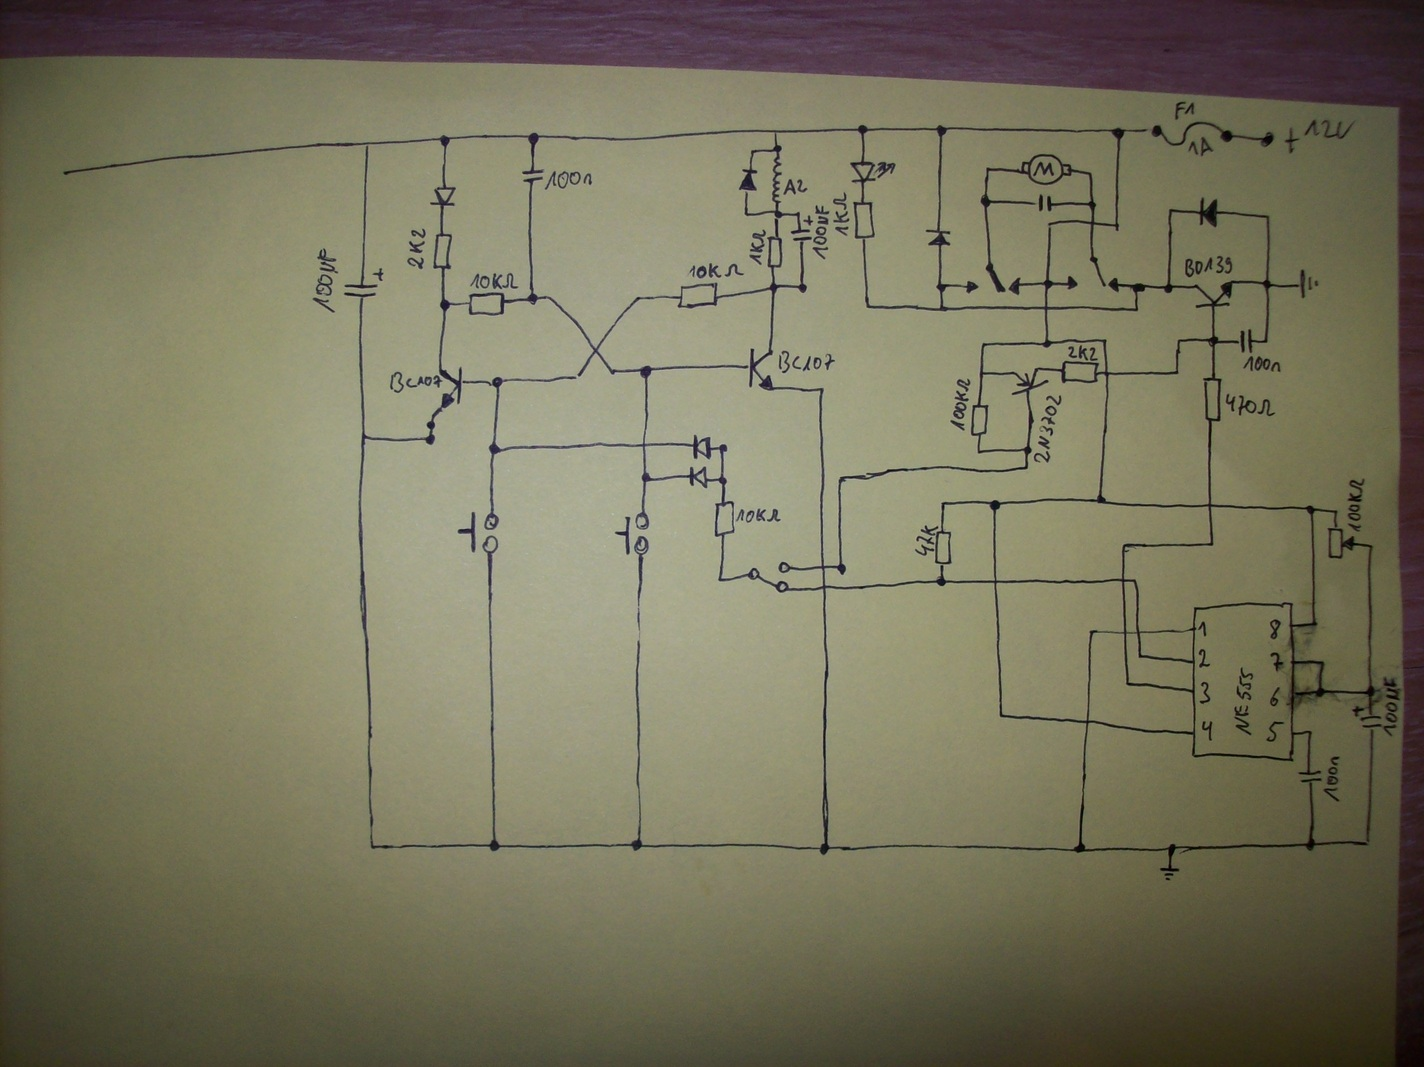capacitor.polarized: (343, 267, 387, 299), (1351, 704, 1383, 730), (791, 216, 813, 242)
capacitor.unpolarized: (1236, 327, 1255, 354), (1034, 193, 1055, 214), (521, 167, 545, 185), (1299, 769, 1323, 785)
crossover: (1203, 498, 1217, 512), (1087, 217, 1099, 230), (1042, 301, 1052, 314), (639, 440, 650, 451), (818, 562, 829, 572), (819, 582, 830, 592), (990, 576, 1002, 586), (1083, 716, 1093, 727), (590, 345, 601, 356), (1119, 575, 1128, 585), (1134, 628, 1143, 637), (1121, 629, 1130, 637), (1102, 370, 1111, 377)
diode: (1198, 196, 1220, 229), (428, 185, 458, 208), (691, 433, 713, 461), (688, 465, 710, 490), (924, 228, 952, 247), (738, 168, 758, 192)
diode.light_emitting: (849, 159, 897, 184)
fuse: (1146, 119, 1235, 147)
gnd: (1296, 268, 1321, 300), (1158, 866, 1180, 882)
inductor: (770, 155, 784, 204)
integrated_cricuit.ne555: (1188, 599, 1297, 763)
junction: (486, 442, 502, 458), (488, 375, 506, 390), (637, 364, 653, 379), (527, 132, 541, 147), (1111, 126, 1126, 140), (818, 841, 831, 856), (438, 133, 452, 148), (934, 124, 949, 138), (835, 562, 848, 576), (979, 193, 992, 208), (1130, 282, 1147, 294), (630, 838, 643, 852), (425, 434, 438, 447), (527, 293, 540, 306), (1165, 842, 1178, 856), (1305, 837, 1316, 853), (439, 298, 452, 312), (640, 471, 652, 484), (1207, 335, 1220, 347), (1073, 842, 1087, 854), (488, 838, 501, 852), (1042, 278, 1054, 291), (936, 574, 947, 588), (767, 281, 780, 294), (1163, 282, 1175, 295), (1095, 494, 1108, 505), (1315, 686, 1327, 699), (1365, 685, 1378, 696), (856, 124, 869, 136), (1040, 338, 1054, 349), (797, 282, 809, 294), (989, 499, 1000, 511), (1086, 627, 1098, 638), (1262, 278, 1273, 290), (573, 370, 584, 382), (863, 300, 874, 313), (1086, 200, 1098, 211), (357, 432, 371, 442), (771, 143, 784, 154), (772, 208, 783, 220), (717, 475, 728, 486), (996, 709, 1007, 721), (1305, 504, 1316, 516), (1262, 211, 1273, 222), (936, 281, 947, 293), (718, 442, 728, 454), (938, 301, 948, 314), (362, 139, 372, 150), (1022, 445, 1033, 455), (1172, 365, 1182, 377), (1304, 727, 1315, 737), (1362, 837, 1372, 848), (607, 367, 618, 377), (817, 384, 828, 395), (835, 473, 846, 483), (1085, 168, 1096, 178), (977, 368, 988, 378), (1100, 336, 1111, 346), (1366, 541, 1376, 553), (939, 499, 949, 509), (1130, 576, 1141, 586), (1207, 539, 1217, 549), (1166, 205, 1176, 215), (1132, 304, 1142, 314), (1174, 336, 1185, 345), (634, 293, 643, 304), (1113, 220, 1121, 231), (716, 575, 725, 585), (1318, 658, 1327, 668), (367, 842, 376, 852), (545, 293, 553, 303), (983, 165, 993, 174), (1045, 220, 1055, 229), (748, 147, 758, 156), (975, 447, 984, 456), (1120, 541, 1129, 550), (1136, 652, 1145, 661), (1123, 679, 1132, 688), (1262, 336, 1271, 345), (979, 340, 988, 349), (1331, 507, 1340, 516), (742, 210, 750, 219), (1310, 619, 1319, 627), (794, 210, 802, 217), (1022, 463, 1030, 471), (772, 128, 781, 134)
motor: (1020, 152, 1073, 186)
resistor: (677, 281, 719, 310), (467, 290, 506, 318), (1201, 375, 1223, 424), (1060, 360, 1100, 386), (851, 200, 876, 241), (713, 499, 735, 539), (431, 232, 452, 273), (933, 529, 953, 567), (766, 235, 784, 271), (970, 403, 989, 437)
resistor.adjustable: (1325, 525, 1357, 562)
switch: (455, 509, 503, 556), (1065, 254, 1120, 293), (965, 261, 1021, 296), (614, 510, 653, 558), (746, 560, 792, 594)
terminal: (1259, 130, 1275, 149), (58, 167, 73, 179)
text: (1283, 118, 1356, 154), (1033, 395, 1063, 464), (311, 247, 339, 313), (1232, 665, 1255, 737), (1223, 391, 1277, 419), (778, 349, 836, 374), (387, 370, 443, 395), (1183, 254, 1235, 279), (949, 377, 971, 432), (1383, 675, 1402, 739), (1344, 476, 1366, 533), (543, 169, 594, 191), (687, 262, 745, 280), (1322, 755, 1343, 804), (812, 204, 830, 261), (469, 271, 519, 291), (406, 228, 427, 271), (736, 507, 783, 525), (832, 191, 850, 236), (1241, 355, 1282, 375), (913, 525, 938, 557), (748, 228, 767, 266), (1188, 134, 1213, 157), (1172, 99, 1197, 121), (1067, 344, 1099, 361), (1264, 720, 1285, 743), (783, 178, 808, 196), (1198, 680, 1212, 706), (1267, 685, 1283, 708), (1199, 720, 1214, 743), (1197, 647, 1212, 669), (1268, 651, 1284, 672), (1268, 618, 1282, 641), (1197, 620, 1208, 638)
transistor: (431, 367, 464, 416), (745, 346, 778, 393), (1194, 279, 1235, 310), (1009, 367, 1049, 396)
